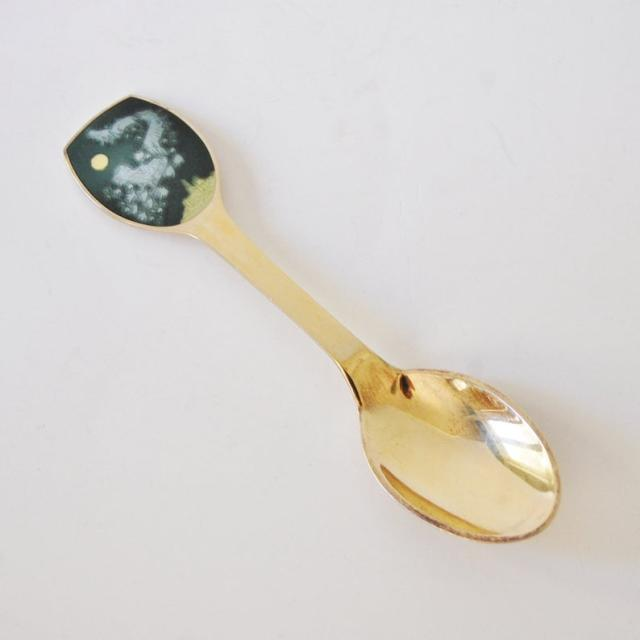spoon: (54, 84, 579, 557)
